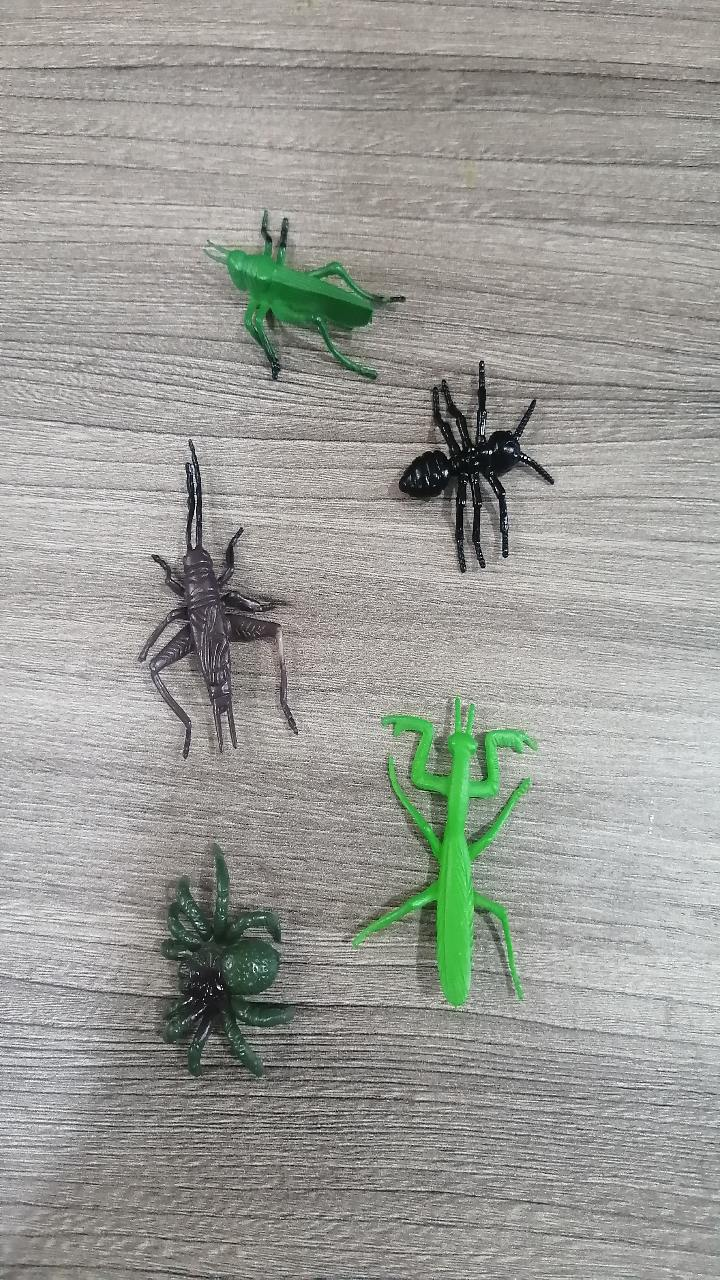intruso: (348, 657, 568, 1022), (101, 797, 354, 1111), (115, 405, 314, 792), (368, 343, 569, 592), (188, 183, 404, 399)
